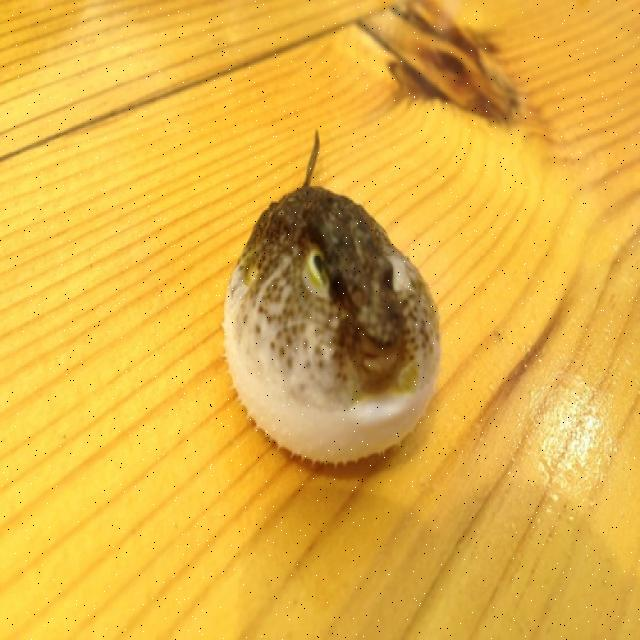Balik: (224, 134, 440, 462)
